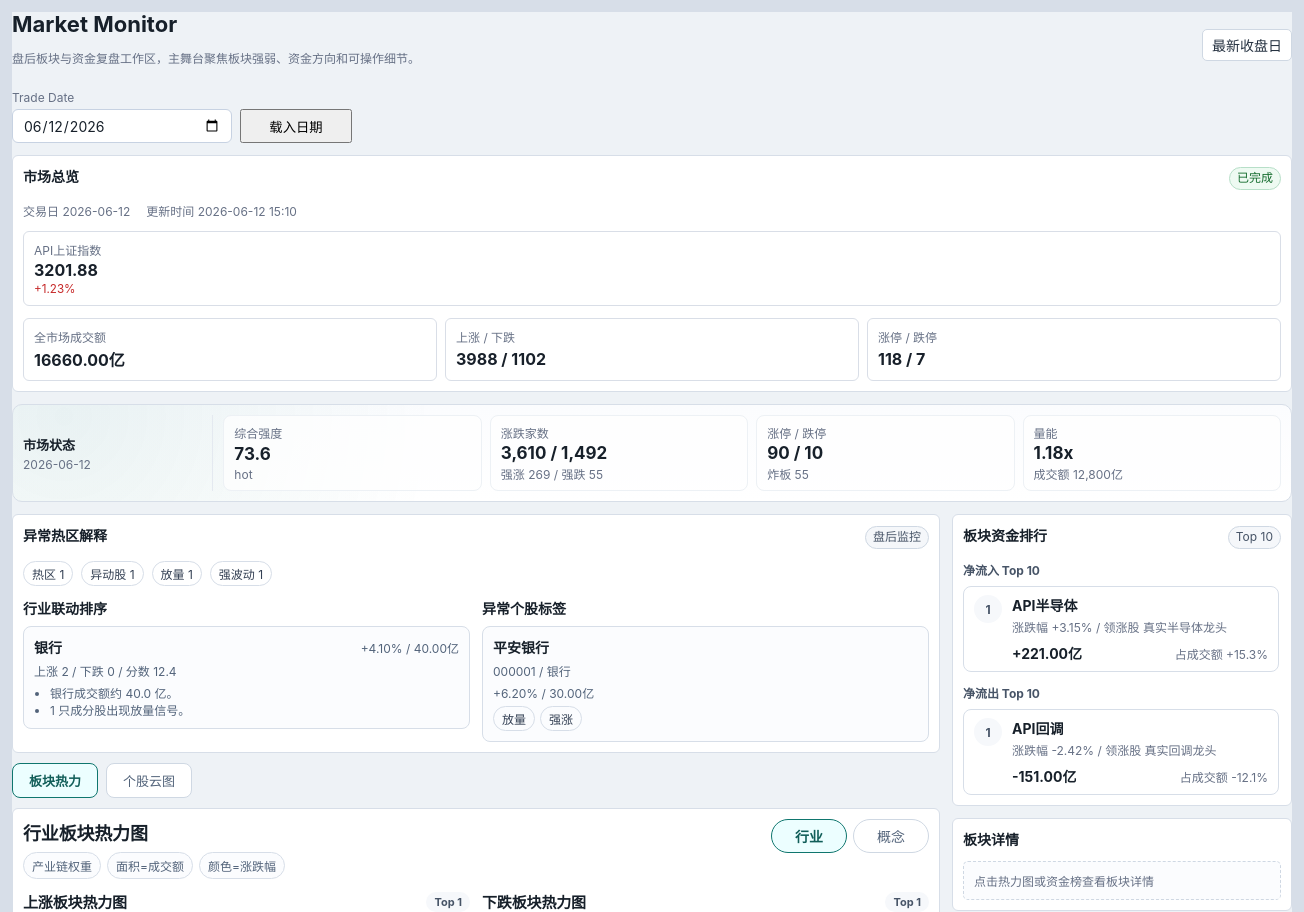
Test: MarketMonitorWorkspace › switches between 行业 and 概念 and reloads heatmap plus fund-flow without refetching overview
Check: the button with aria-label "查看板块详情 API半导体" is shown, box [963,586,1279,672]
Click the button "概念" at (891, 836), box [853,819,929,853]
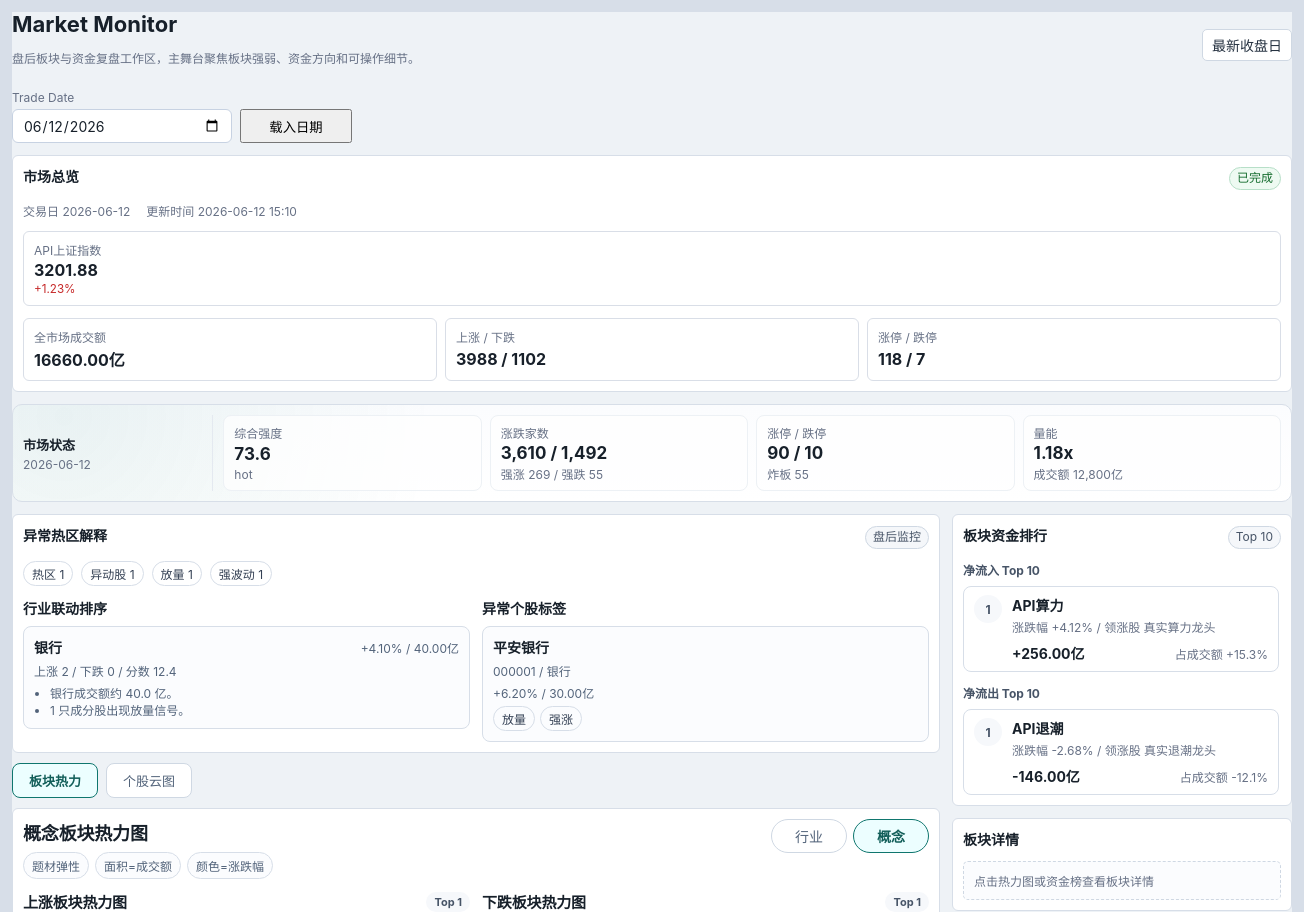
Check: the heading "概念板块热力图" is shown, box [23,823,148,844]
Check: the text "题材弹性" is shown, box [23,852,89,879]
Check: the button with aria-label "查看板块详情 API算力" is shown, box [963,586,1279,672]
